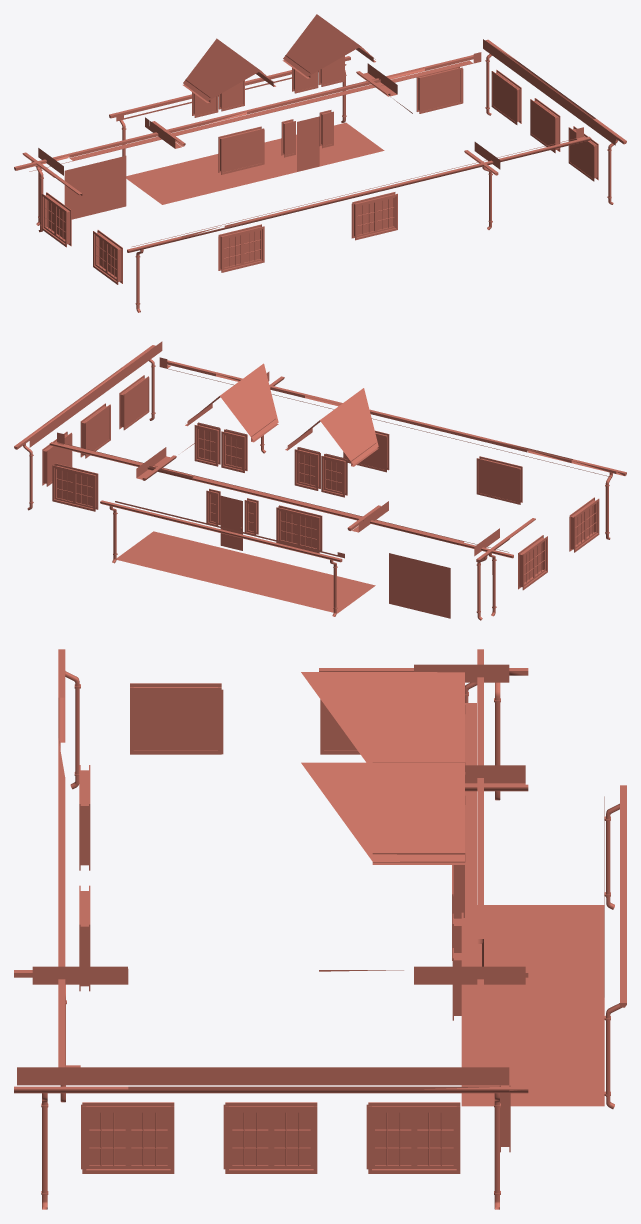
Rendered from HouseB_DETAIL.fbx.
The picture shows the model from 3 angles, top to bottom: view 1: azimuth 30°, elevation 25°; view 2: azimuth 150°, elevation 25°; view 3: azimuth 270°, elevation 25°; orthographic projection. The views are drawn at different scales.
Visible parts, largest first — view 1: HouseBTEX_LOD0; view 2: HouseBTEX_LOD0; view 3: HouseBTEX_LOD0.
Part boxes in pixels (box(x1,y1,x2,y2)): HouseBTEX_LOD0: box(14, 14, 626, 312); HouseBTEX_LOD0: box(14, 341, 626, 620); HouseBTEX_LOD0: box(14, 649, 626, 1209).
Size of what is drawn, in the model's own units: 2187 by 672 by 1287.
